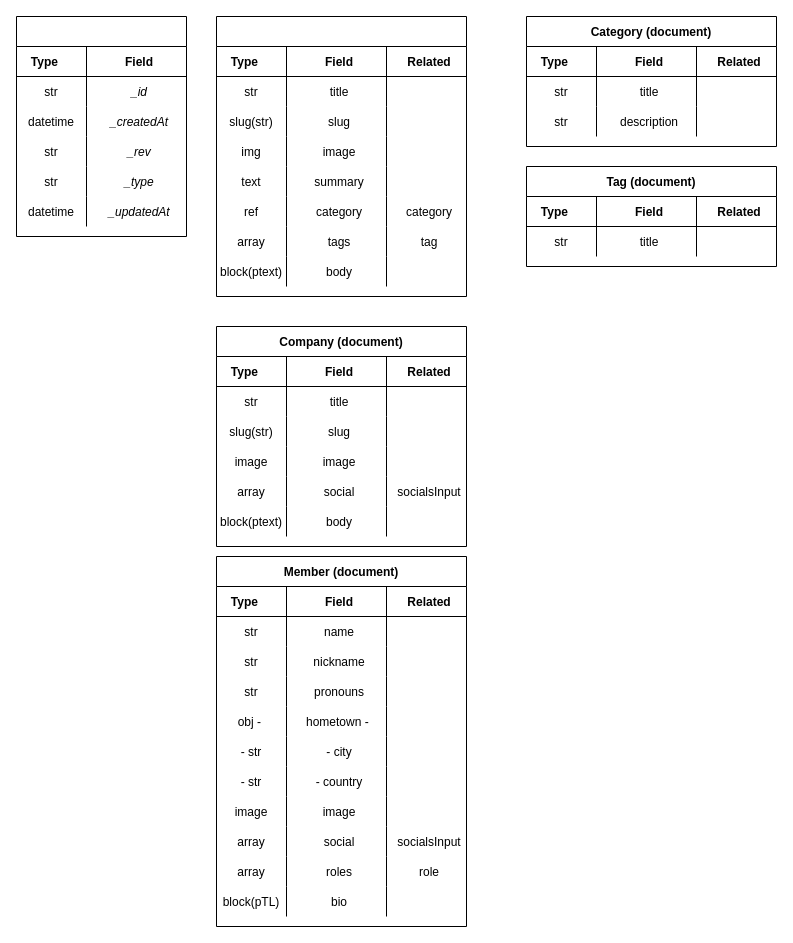
Image size: 793x943. Some labels were removed from this diagram. The shapes that lost their labels are listed below. From the top down, each one's box as (x1, y1, x2, y2) in pixels, then its label:
(16, 16, 186, 236): Default Fields
(216, 16, 466, 296): Article (document)
